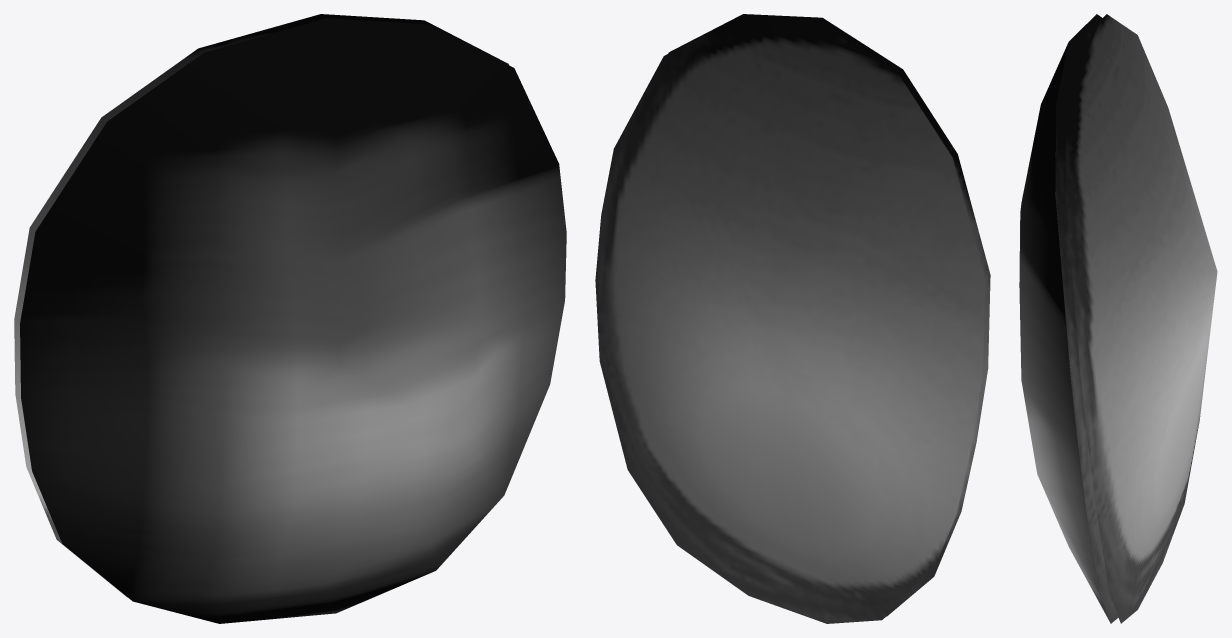
The model's file is mesh_Eye3_R.fbx.
3 renders of one model, left to right at view 1: azimuth 30°, elevation 25°; view 2: azimuth 150°, elevation 25°; view 3: azimuth 270°, elevation 25°, orthographic. The views are drawn at different scales.
Parts seen in each view (by area): view 1: mesh_Eye3_R_Cover, mesh_Eye3_R_back; view 2: mesh_Eye3_R_back, mesh_Eye3_R; view 3: mesh_Eye3_R_back, mesh_Eye3_R_Cover, mesh_Eye3_R.
Part boxes in pixels (x1,y1,x2,y2): mesh_Eye3_R_Cover: (20,18,566,623); mesh_Eye3_R_back: (14,14,508,597); mesh_Eye3_R_back: (595,17,985,623); mesh_Eye3_R: (668,14,990,616); mesh_Eye3_R_back: (1065,14,1217,623); mesh_Eye3_R_Cover: (1019,42,1110,623); mesh_Eye3_R: (1055,14,1118,623).
Size of the model in its own units: 4.92 by 6.05 by 1.98.
Materials: 1 (1 with a texture image).
